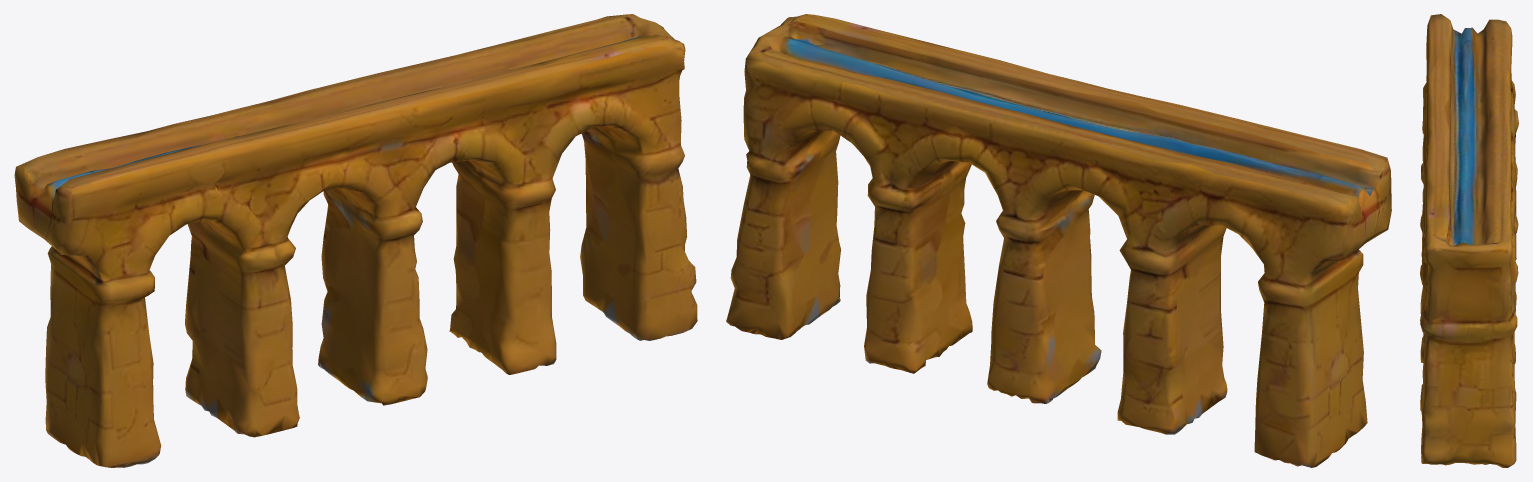
Rendered from prop_aqueduct_arches.glb.
The picture shows the model from 3 angles, left to right: view 1: azimuth 30°, elevation 25°; view 2: azimuth 150°, elevation 25°; view 3: azimuth 270°, elevation 25°; orthographic projection. The views are drawn at different scales.
Parts seen in each view (by area): view 1: geometry_0; view 2: geometry_0; view 3: geometry_0.
Part boxes in pixels (x1,y1,x2,y2): geometry_0: (14,14,697,467); geometry_0: (726,14,1391,467); geometry_0: (1420,14,1518,467).
Size of the model in its own units: 1.83 by 0.802 by 0.3217.
Materials: 1 (1 with a texture image).
